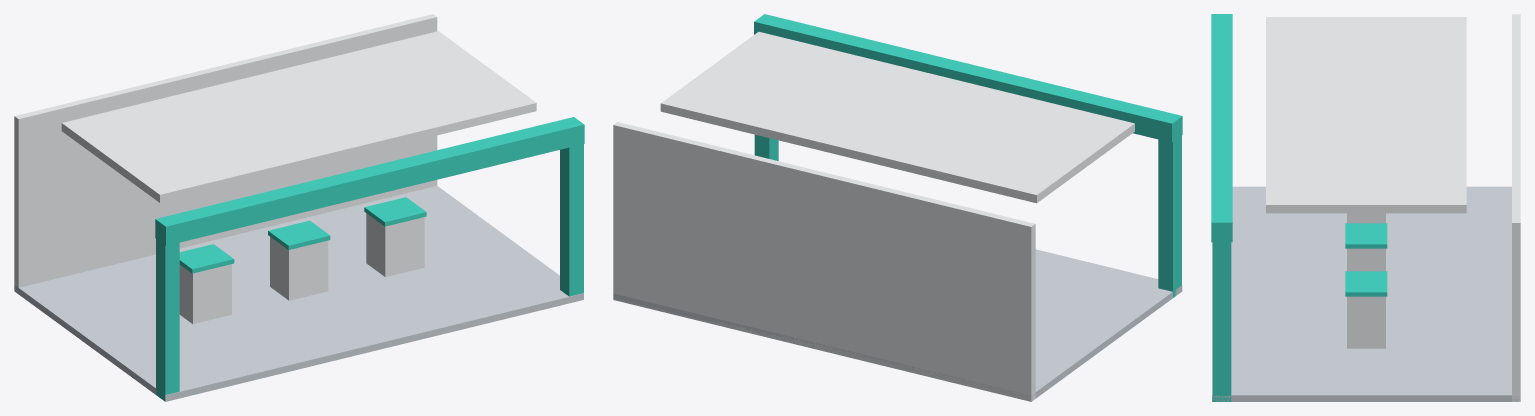
The picture shows the model from 3 angles, left to right: view 1: azimuth 30°, elevation 25°; view 2: azimuth 150°, elevation 25°; view 3: azimuth 270°, elevation 25°; orthographic projection. The views are drawn at different scales.
Parts seen in each view (by area): view 1: Exhibition Booth Concept; view 2: Exhibition Booth Concept; view 3: Exhibition Booth Concept.
Part boxes in pixels (<box>): Exhibition Booth Concept: <box>14,14,584,401</box>; Exhibition Booth Concept: <box>613,14,1182,401</box>; Exhibition Booth Concept: <box>1211,14,1520,401</box>.
Size of the model in its own units: 8 by 3.34 by 5.02.
